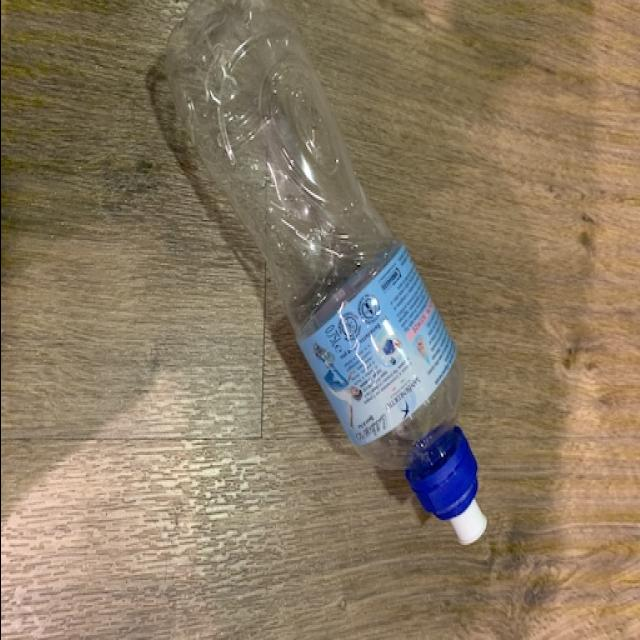PET: (160, 4, 486, 548)
